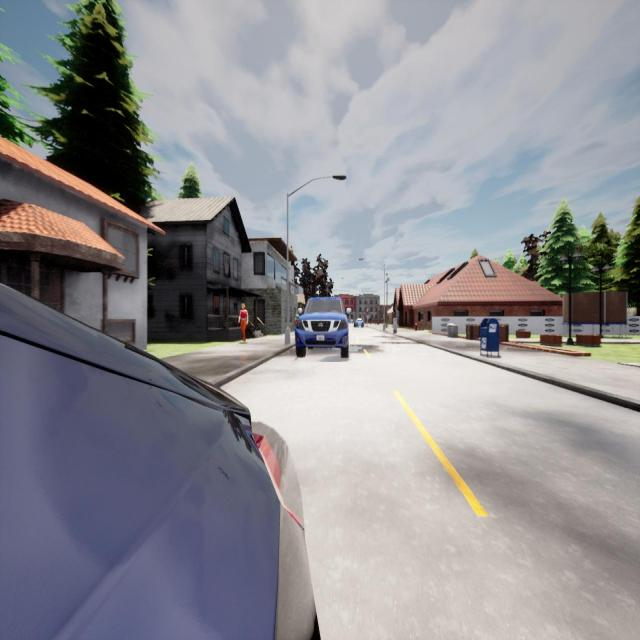Pedestrian: (238, 302, 248, 342)
Vehicle: (0, 286, 316, 640), (295, 297, 349, 357), (354, 318, 364, 328)
traffic_light: (366, 309, 368, 315)
